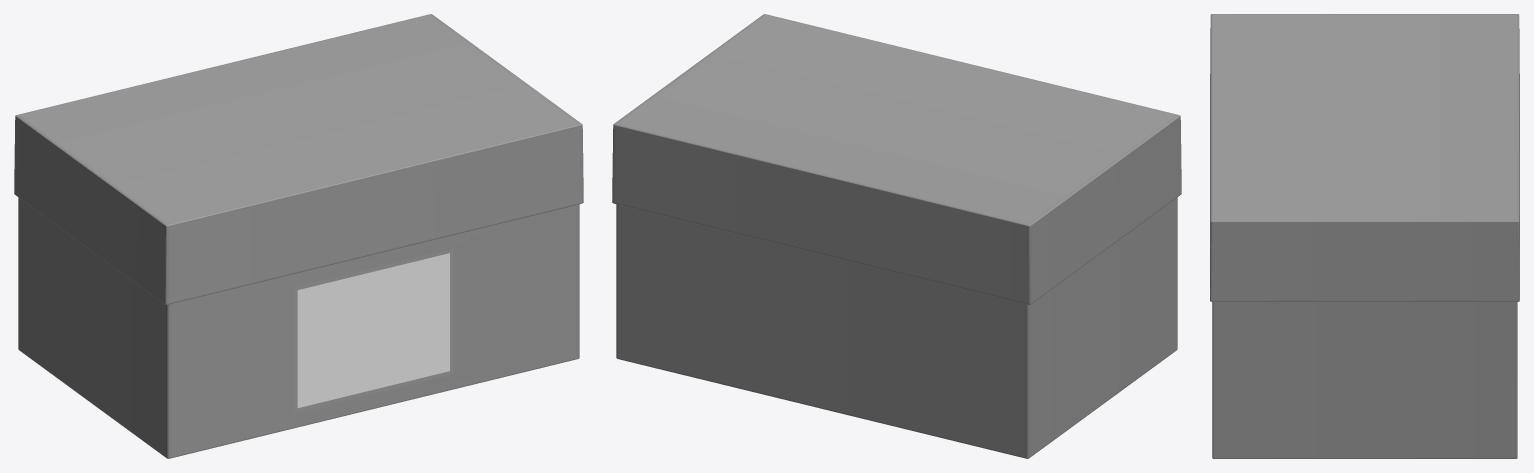
File: Grey Box W_Lid.fbx
The picture shows the model from 3 angles, left to right: view 1: azimuth 30°, elevation 25°; view 2: azimuth 150°, elevation 25°; view 3: azimuth 270°, elevation 25°; orthographic projection.
Parts seen in each view (by area): view 1: Grey Box w/Lid; view 2: Grey Box w/Lid; view 3: Grey Box w/Lid.
Boxes of the visible parts, <box> form: Grey Box w/Lid: <box>14,14,583,458</box>; Grey Box w/Lid: <box>612,14,1181,458</box>; Grey Box w/Lid: <box>1210,14,1519,458</box>.
Size of the model in its own units: 220 by 258 by 410.
Materials: 1 (1 with a texture image).
